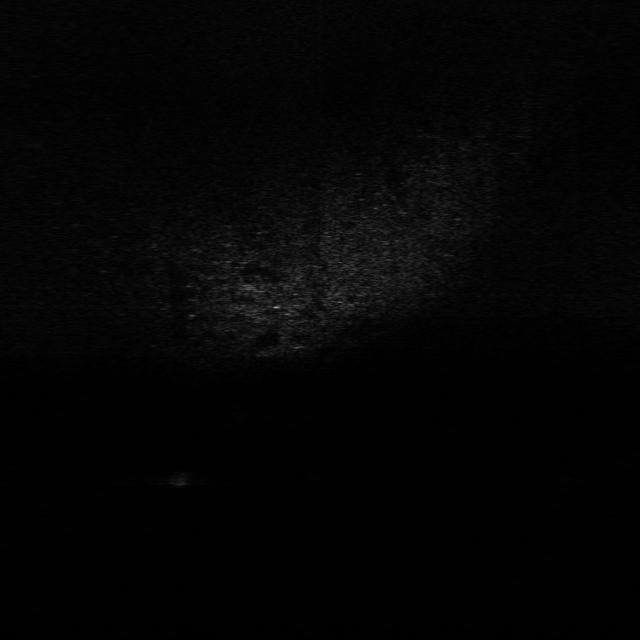cylinder: (164, 467, 193, 489)
